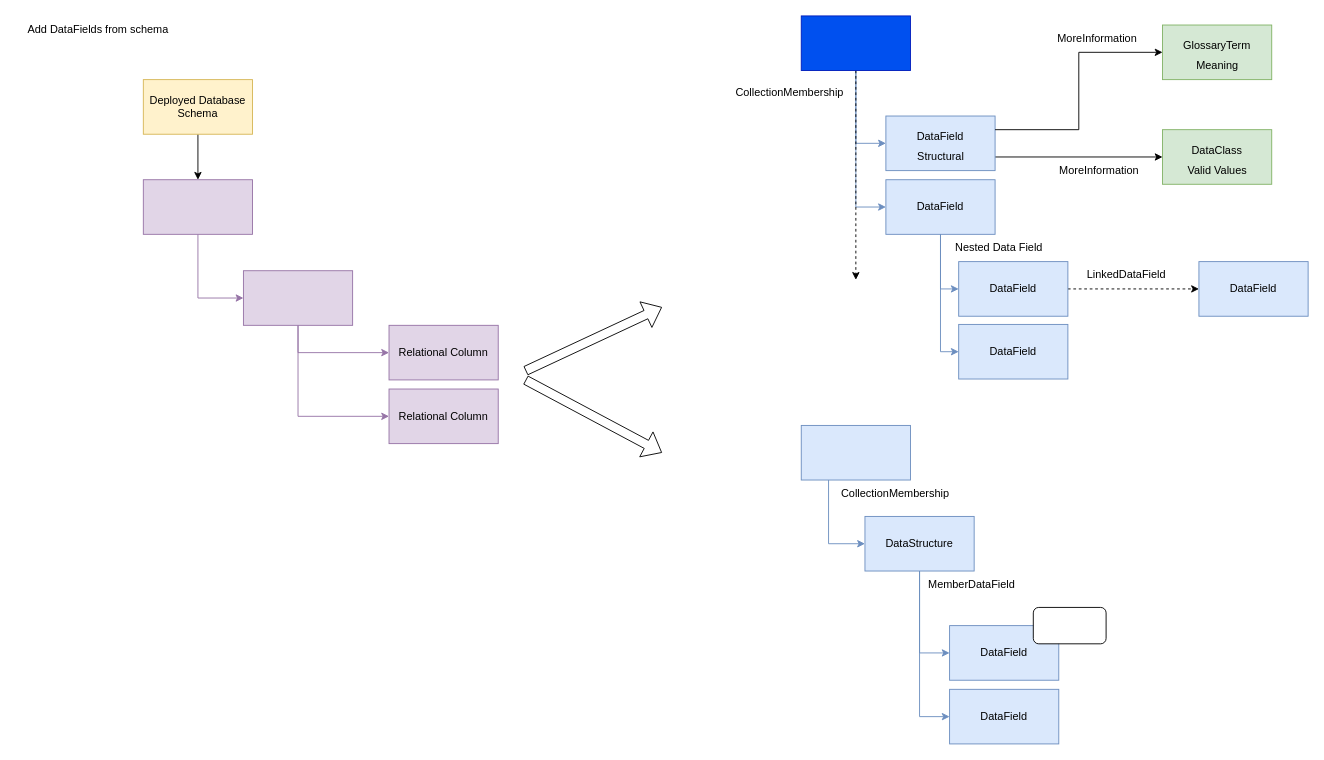
The diagram is 1324 pixels wide and 760 high, and some of its shapes have lost their labels. Here are the shapes that lost their labels. From the top down, the centre of each, then its label:
the point at 855,43: DataDictionary
the point at 197,206: Relational Schema Type
the point at 298,297: Relational Table
the point at 855,452: DataSpec
the point at 1069,625: Object Identifier
